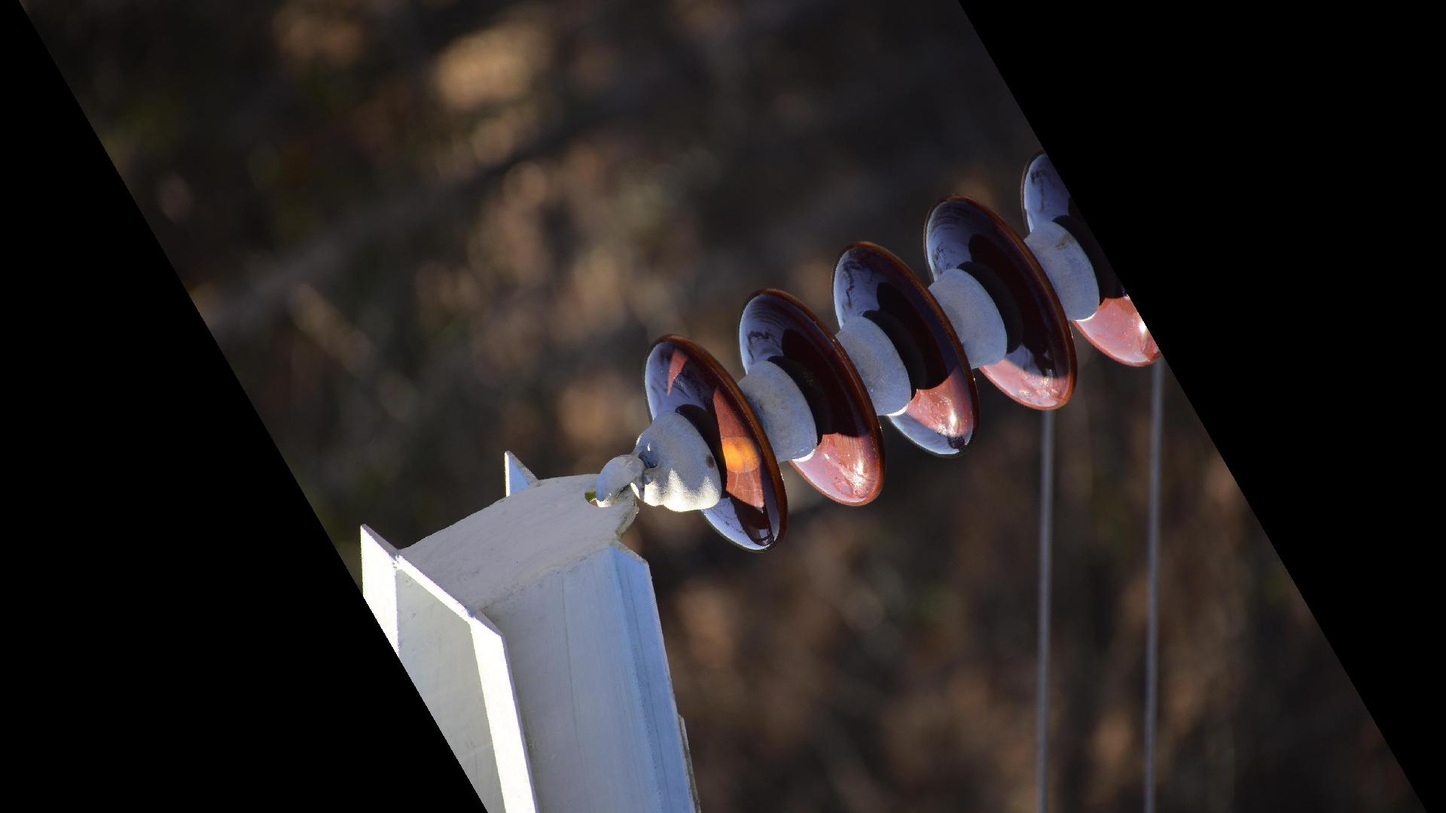insulator: (632, 146, 1164, 559)
insulator_flashover: (711, 434, 765, 475)
